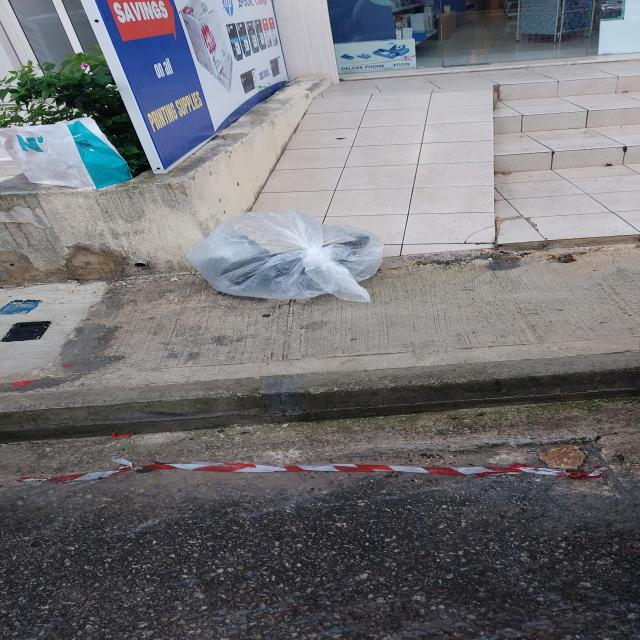Organic Waste -White Bag-: (196, 213, 388, 307)
